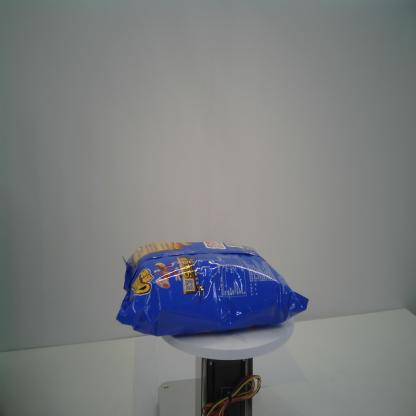Puffed Food: (115, 239, 310, 337)
